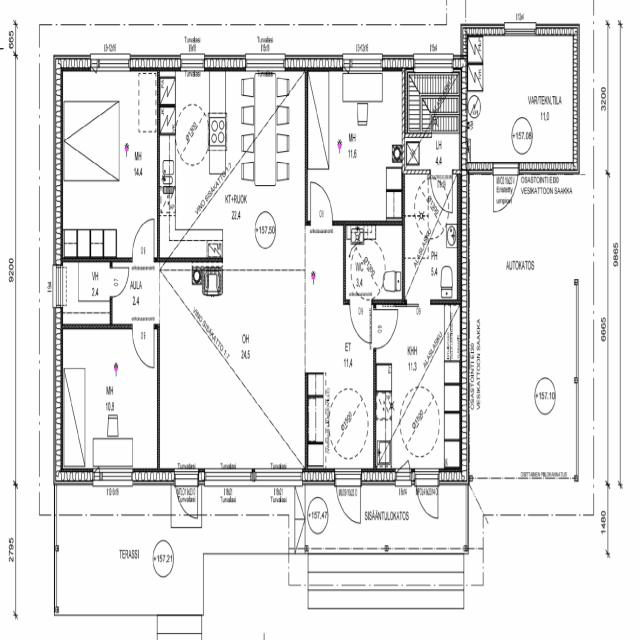door: (493, 161, 518, 217), (336, 468, 360, 525), (175, 468, 197, 522), (416, 468, 438, 521), (349, 300, 372, 344), (132, 285, 154, 329), (373, 310, 398, 348), (310, 182, 332, 225), (132, 219, 154, 262), (430, 170, 452, 212), (110, 266, 129, 296)
